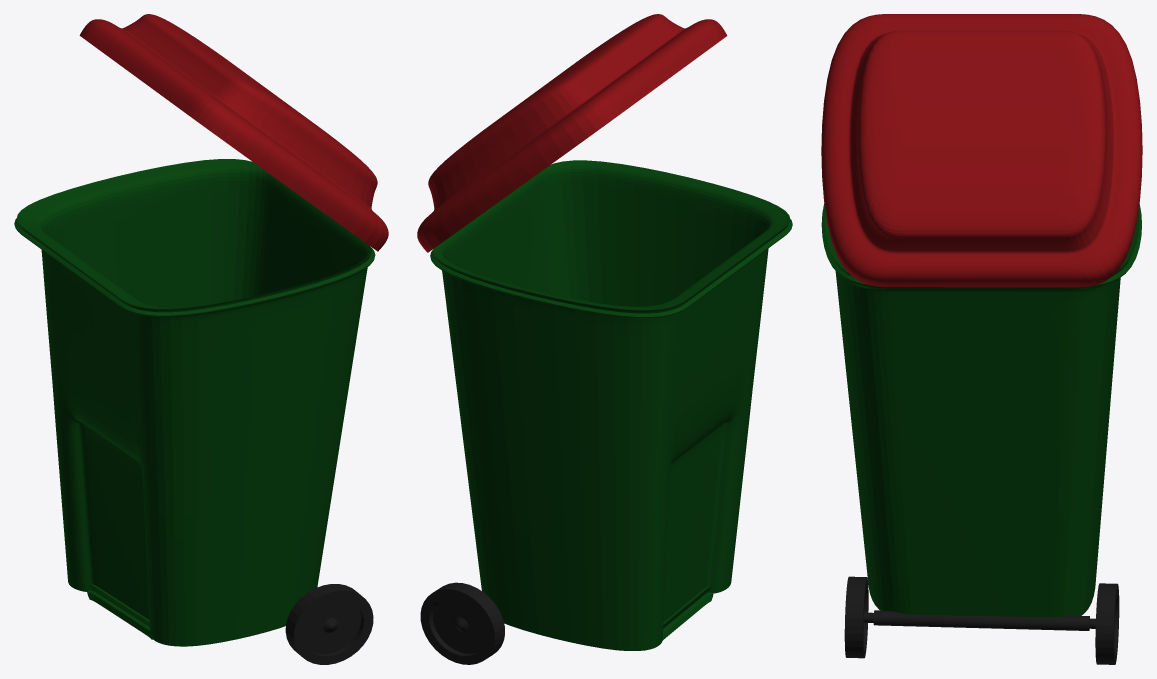
Rendered from TrashBinRed.fbx.
3 views of the same model, side by side, from view 1: azimuth 30°, elevation 25°; view 2: azimuth 150°, elevation 25°; view 3: azimuth 270°, elevation 25° (orthographic).
Parts seen in each view (by area): view 1: Cube, Cube.001, Cylinder.001; view 2: Cube, Cube.001, Cylinder.001; view 3: Cube, Cube.001, Cylinder.001, Cylinder.
Part boxes in pixels (x1,y1,x2,y2): Cube: (14,159,375,646); Cube.001: (79,14,388,251); Cylinder.001: (285,584,373,664); Cube: (430,160,792,650); Cube.001: (417,14,727,252); Cylinder.001: (420,582,504,664); Cube: (821,203,1141,617); Cube.001: (821,14,1142,287); Cylinder.001: (844,576,1119,664); Cylinder: (873,610,1089,630).
Bounding box in the file's own units: 224 × 478 × 238.
